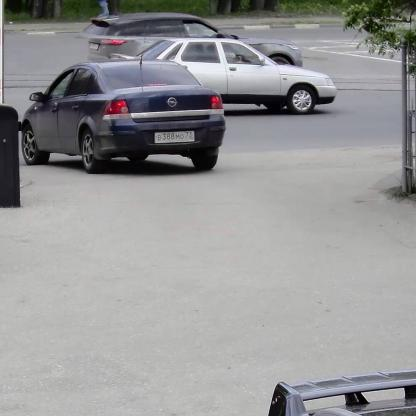plate: (155, 131, 194, 142)
